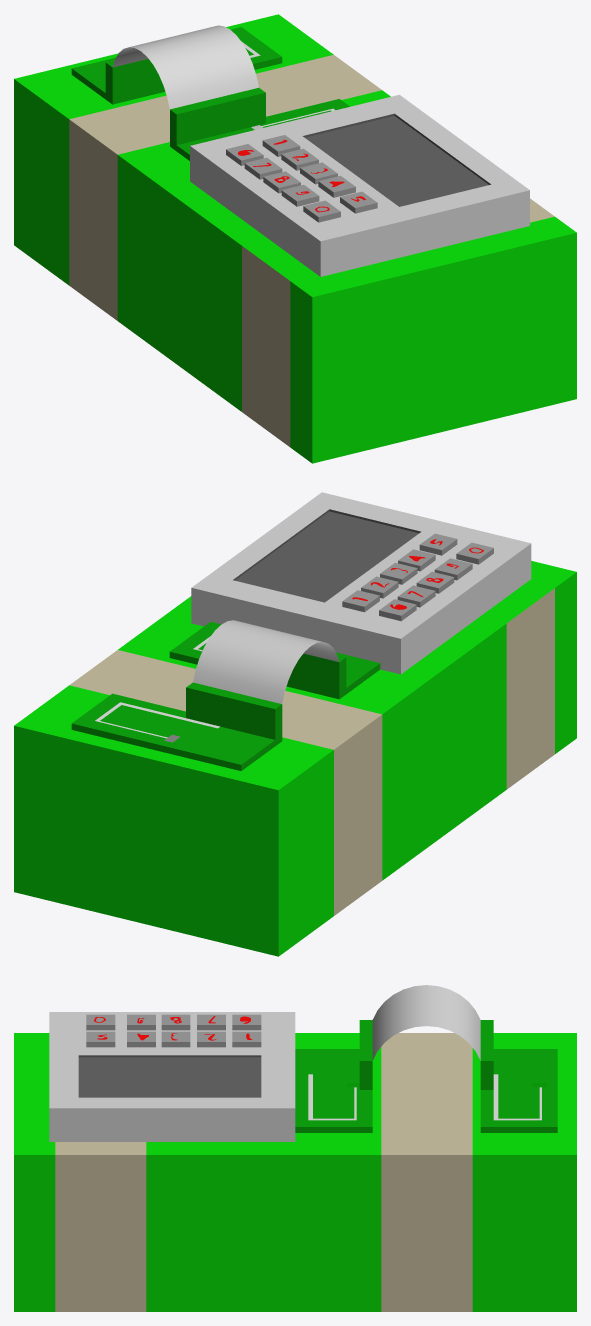
Rendered from bomba3v2.dae.
3 views of the same model, one above another, from view 1: azimuth 30°, elevation 25°; view 2: azimuth 150°, elevation 25°; view 3: azimuth 270°, elevation 25° (orthographic). The views are drawn at different scales.
Parts seen in each view (by area): view 1: SketchUp_001, SketchUp_002, SketchUp_034, SketchUp, SketchUp_003, SketchUp_016, SketchUp_037, SketchUp_015, SketchUp_014; view 2: SketchUp, SketchUp_001, SketchUp_002, SketchUp_034, SketchUp_014, SketchUp_003, SketchUp_016, SketchUp_037, SketchUp_015; view 3: SketchUp_001, SketchUp_034, SketchUp, SketchUp_002, SketchUp_016, SketchUp_003, SketchUp_015, SketchUp_014, SketchUp_037, instance_1, SketchUp_013, SketchUp_011 (+9 smaller).
Part boxes in pixels (left/top/right/bottom): SketchUp_001: left=117, top=90, right=576, bottom=463; SketchUp_002: left=190, top=94, right=529, bottom=276; SketchUp_034: left=69, top=55, right=381, bottom=320; SketchUp: left=14, top=14, right=333, bottom=285; SketchUp_003: left=303, top=113, right=490, bottom=206; SketchUp_016: left=242, top=198, right=554, bottom=446; SketchUp_037: left=113, top=25, right=258, bottom=109; SketchUp_015: left=170, top=87, right=349, bottom=160; SketchUp_014: left=71, top=27, right=282, bottom=104; SketchUp: left=14, top=685, right=333, bottom=956; SketchUp_001: left=118, top=561, right=576, bottom=880; SketchUp_002: left=191, top=492, right=531, bottom=674; SketchUp_034: left=69, top=650, right=382, bottom=915; SketchUp_014: left=71, top=682, right=282, bottom=770; SketchUp_003: left=233, top=509, right=420, bottom=602; SketchUp_016: left=506, top=588, right=554, bottom=789; SketchUp_037: left=193, top=620, right=339, bottom=703; SketchUp_015: left=169, top=622, right=380, bottom=699; SketchUp_001: left=14, top=1033, right=381, bottom=1311; SketchUp_034: left=381, top=1033, right=472, bottom=1311; SketchUp: left=472, top=1033, right=576, bottom=1311; SketchUp_002: left=49, top=1012, right=295, bottom=1141; SketchUp_016: left=55, top=1142, right=146, bottom=1311; SketchUp_003: left=78, top=1055, right=261, bottom=1097; SketchUp_015: left=295, top=1020, right=372, bottom=1132; SketchUp_014: left=480, top=1020, right=557, bottom=1132; SketchUp_037: left=372, top=985, right=480, bottom=1060; instance_1: left=493, top=1074, right=541, bottom=1120; SketchUp_013: left=161, top=1031, right=190, bottom=1047; SketchUp_011: left=86, top=1031, right=115, bottom=1047.
Size of the model in its own units: 27.96 by 54.59 by 24.29.
